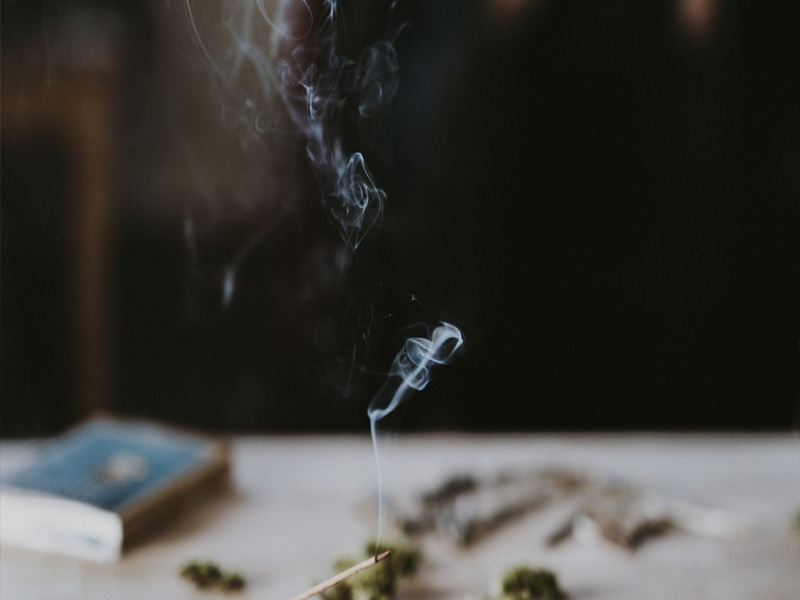smoke: (247, 7, 425, 386)
